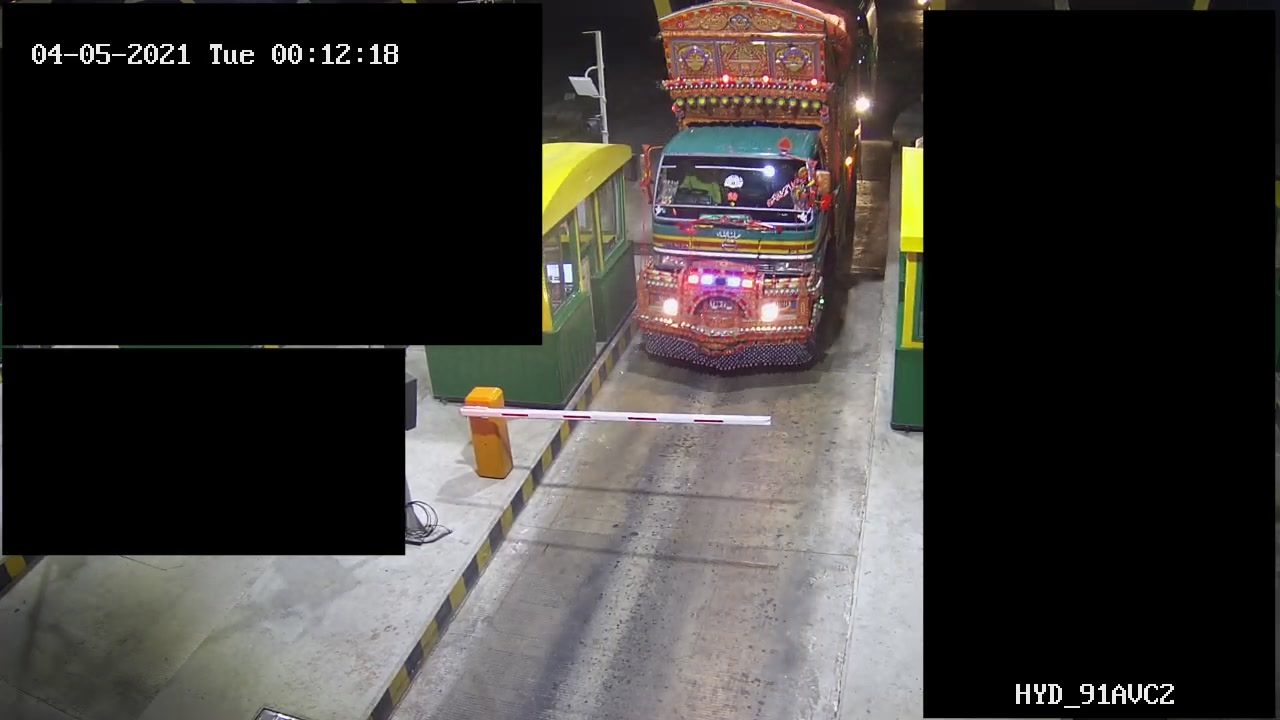F5: (622, 1, 861, 382)
